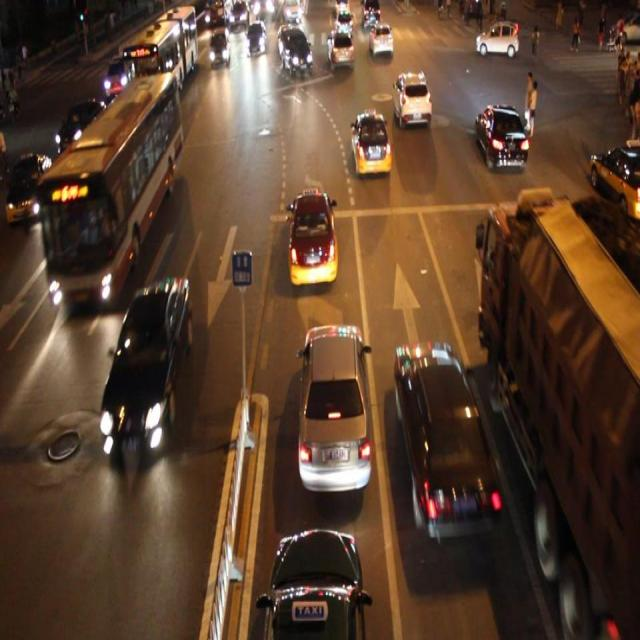bus: (479, 204, 640, 640)
car: (394, 339, 499, 537), (102, 277, 190, 447), (297, 319, 373, 495), (260, 526, 367, 640), (526, 197, 606, 275), (287, 188, 339, 284), (1, 152, 54, 222), (476, 102, 528, 169), (58, 97, 110, 154), (350, 110, 392, 176), (392, 70, 431, 131), (280, 28, 314, 75), (104, 54, 134, 99), (325, 28, 354, 72), (245, 21, 268, 58), (368, 22, 393, 56)
truck: (207, 25, 231, 69)
van: (40, 77, 177, 300), (120, 1, 196, 94)
